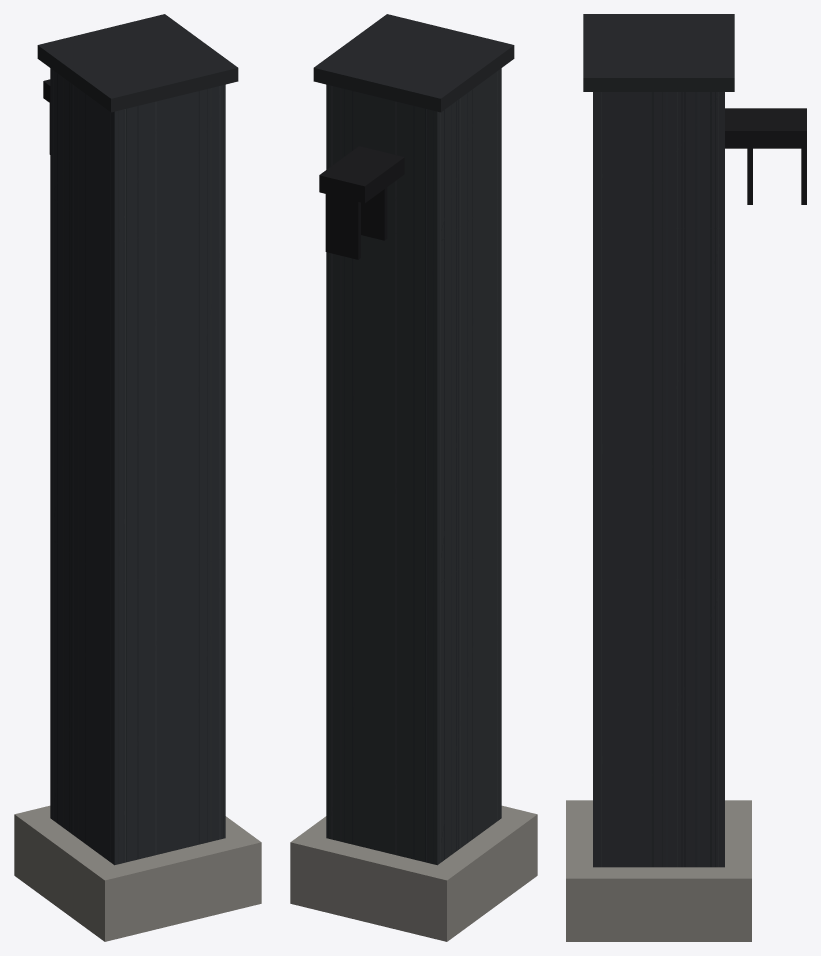
File: MinidoracatKnoxPass_slidepost1_G.glb
3 views of the same model, side by side, from view 1: azimuth 30°, elevation 25°; view 2: azimuth 150°, elevation 25°; view 3: azimuth 270°, elevation 25° (orthographic). The views are drawn at different scales.
Parts seen in each view (by area): view 1: MinidoracatKnoxPass_slidepost1_G; view 2: MinidoracatKnoxPass_slidepost1_G; view 3: MinidoracatKnoxPass_slidepost1_G.
Part boxes in pixels (x1,y1,x2,y2): MinidoracatKnoxPass_slidepost1_G: (14,14,261,941); MinidoracatKnoxPass_slidepost1_G: (290,14,537,941); MinidoracatKnoxPass_slidepost1_G: (566,14,806,941).
Size of the model in its own units: 0.48 by 2.44 by 0.622.
1 material, 1 textured.
